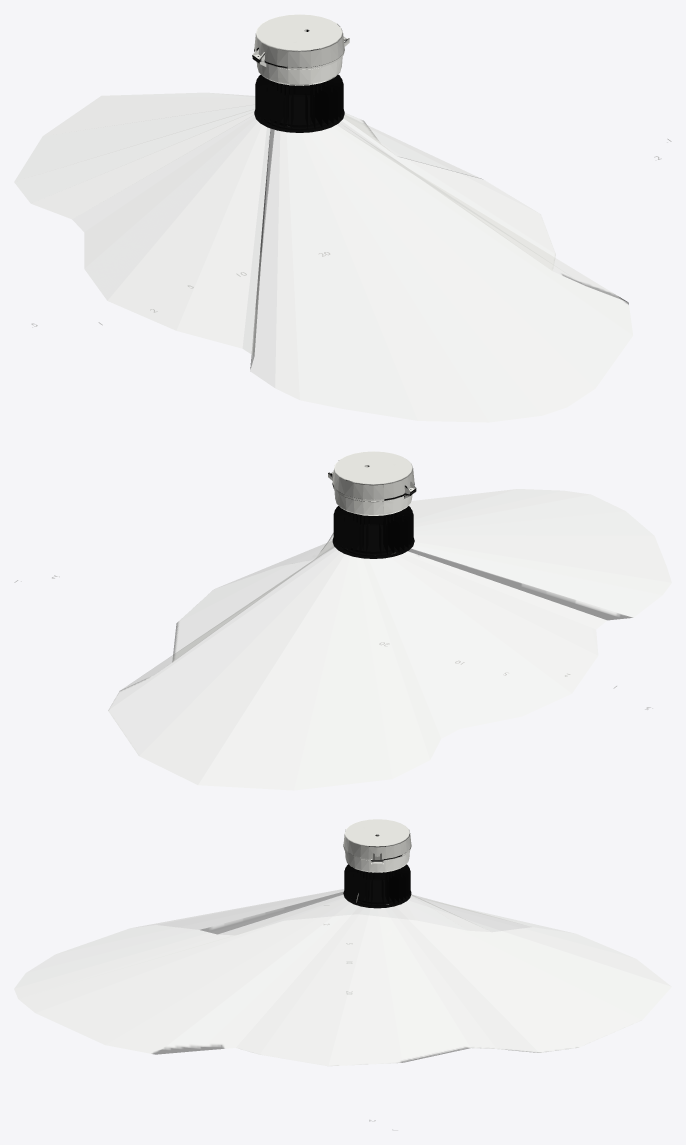
The model's file is VMVLtype-1.obj.
The picture shows the model from 3 angles, top to bottom: view 1: azimuth 30°, elevation 25°; view 2: azimuth 150°, elevation 25°; view 3: azimuth 270°, elevation 25°; orthographic projection. The views are drawn at different scales.
Parts seen in each view (by area): view 1: Cylinder, VMV7L2HA_UNV1_; view 2: Cylinder, VMV7L2HA_UNV1_; view 3: Cylinder, VMV7L2HA_UNV1_.
Part boxes in pixels (bbox=[...]): Cylinder: bbox=[14, 93, 632, 422]; VMV7L2HA_UNV1_: bbox=[252, 14, 349, 132]; Cylinder: bbox=[108, 489, 671, 790]; VMV7L2HA_UNV1_: bbox=[328, 451, 416, 558]; Cylinder: bbox=[14, 889, 671, 1065]; VMV7L2HA_UNV1_: bbox=[343, 819, 411, 908].
Bounding box in the file's own units: 86.55 × 26.05 × 97.84.
Materials: 3 (2 with a texture image).
